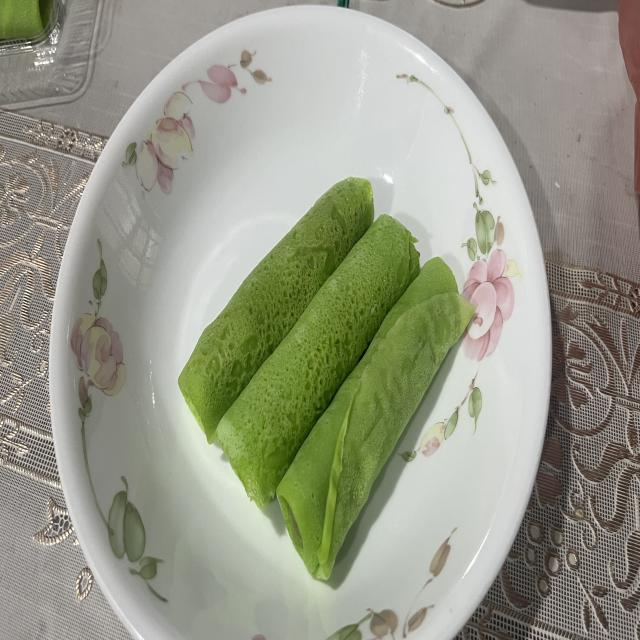Kuih-Ketayap: (276, 258, 474, 580), (216, 216, 419, 509), (179, 178, 374, 442)
